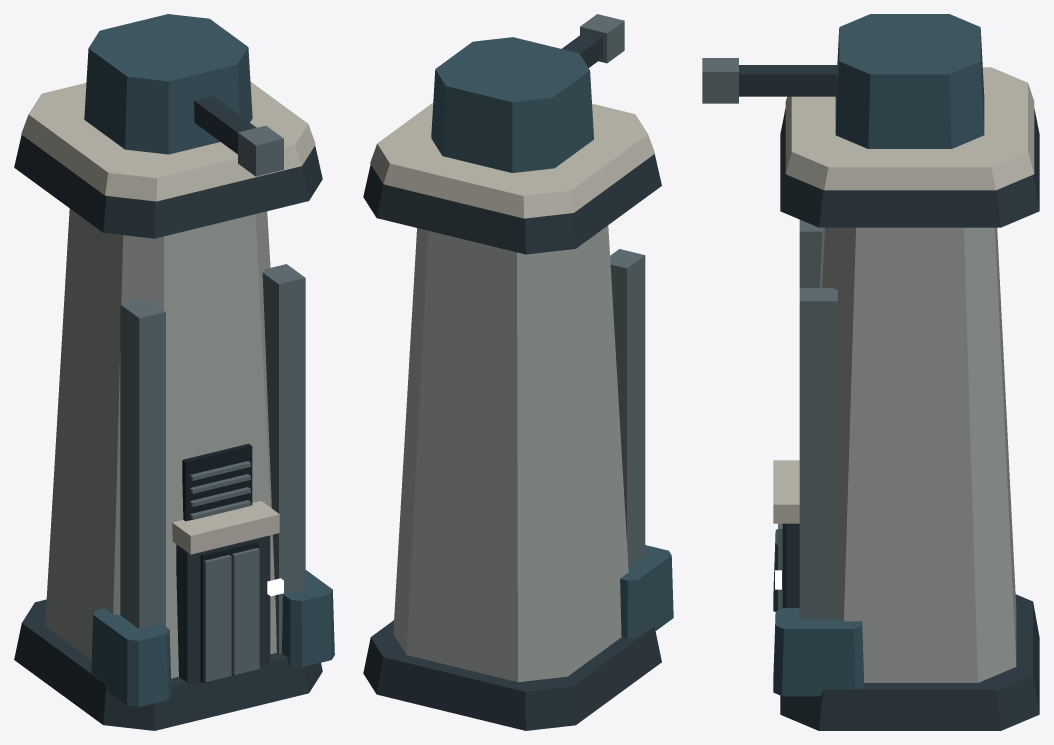
Rendered from outpost_t2.glb.
3 views of the same model, side by side, from view 1: azimuth 30°, elevation 25°; view 2: azimuth 150°, elevation 25°; view 3: azimuth 270°, elevation 25° (orthographic). The views are drawn at different scales.
Parts seen in each view (by area): view 1: body, part_turret; view 2: body, part_turret; view 3: body, part_turret.
Boxes of the visible parts, x1,y1,x2,y2 form: body: [14, 81, 334, 730]; part_turret: [84, 14, 283, 176]; body: [363, 102, 673, 730]; part_turret: [431, 14, 624, 172]; body: [773, 67, 1039, 730]; part_turret: [702, 14, 984, 148].
Size of the model in its own units: 1.48 by 3.98 by 1.93.
